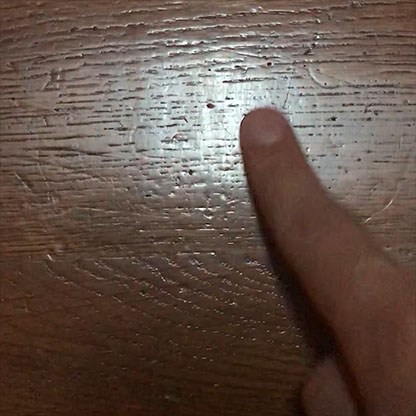fingertip: (226, 99, 308, 162)
